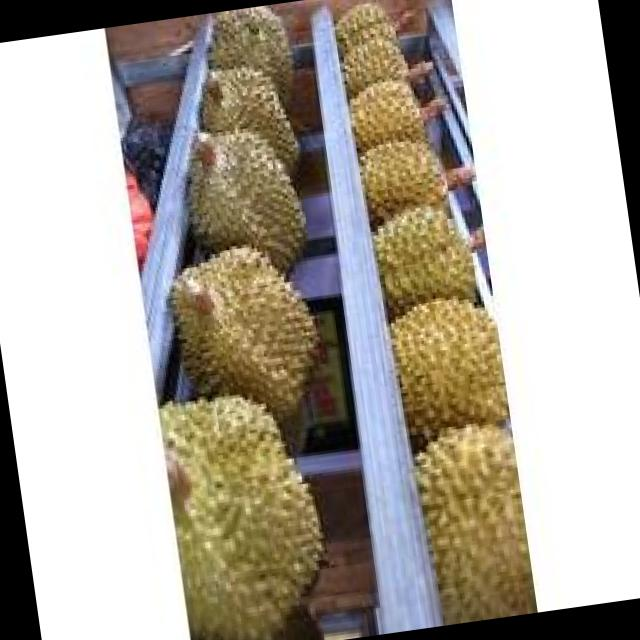fruit: (7, 351, 359, 640), (140, 37, 333, 291), (144, 217, 352, 443)
